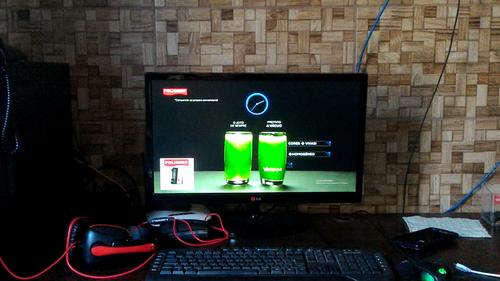Polishop #1: (159, 157, 195, 190)
